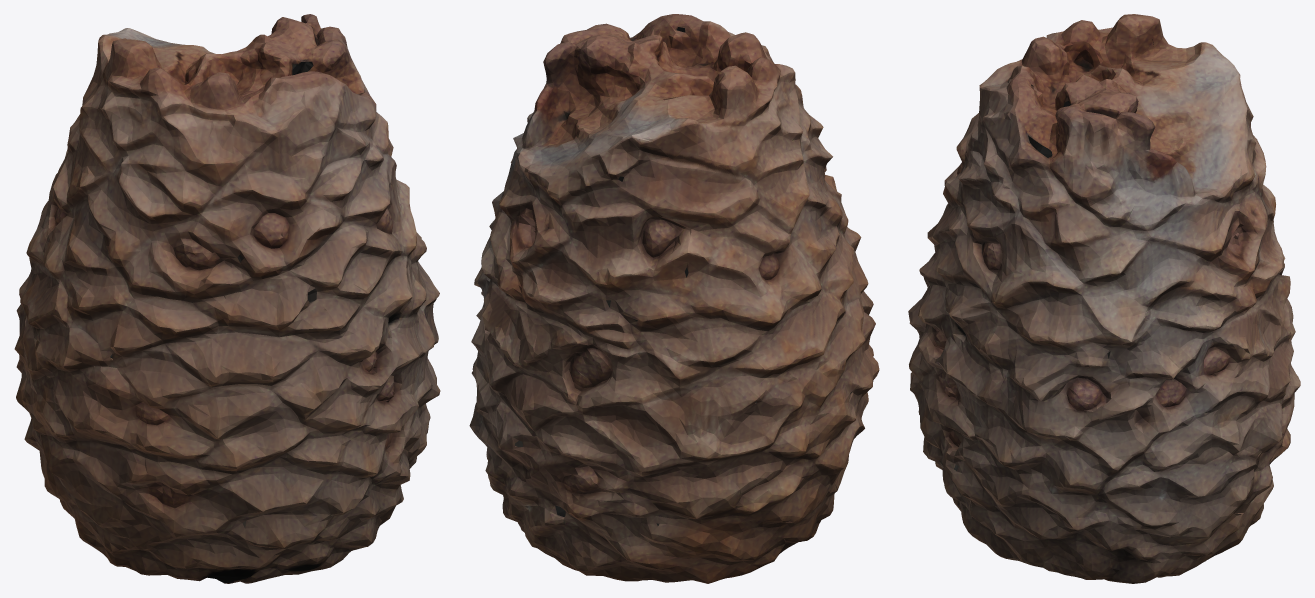
3 views of the same model, side by side, from view 1: azimuth 30°, elevation 25°; view 2: azimuth 150°, elevation 25°; view 3: azimuth 270°, elevation 25° (orthographic). The views are drawn at different scales.
Parts seen in each view (by area): view 1: world; view 2: world; view 3: world.
Part boxes in pixels (box(x1,y1,x2,y2)): world: box(14, 14, 440, 583); world: box(469, 14, 879, 583); world: box(908, 14, 1300, 583).
Bounding box in the file's own units: 0.726 × 0.9912 × 0.72.
1 material, 1 textured.
